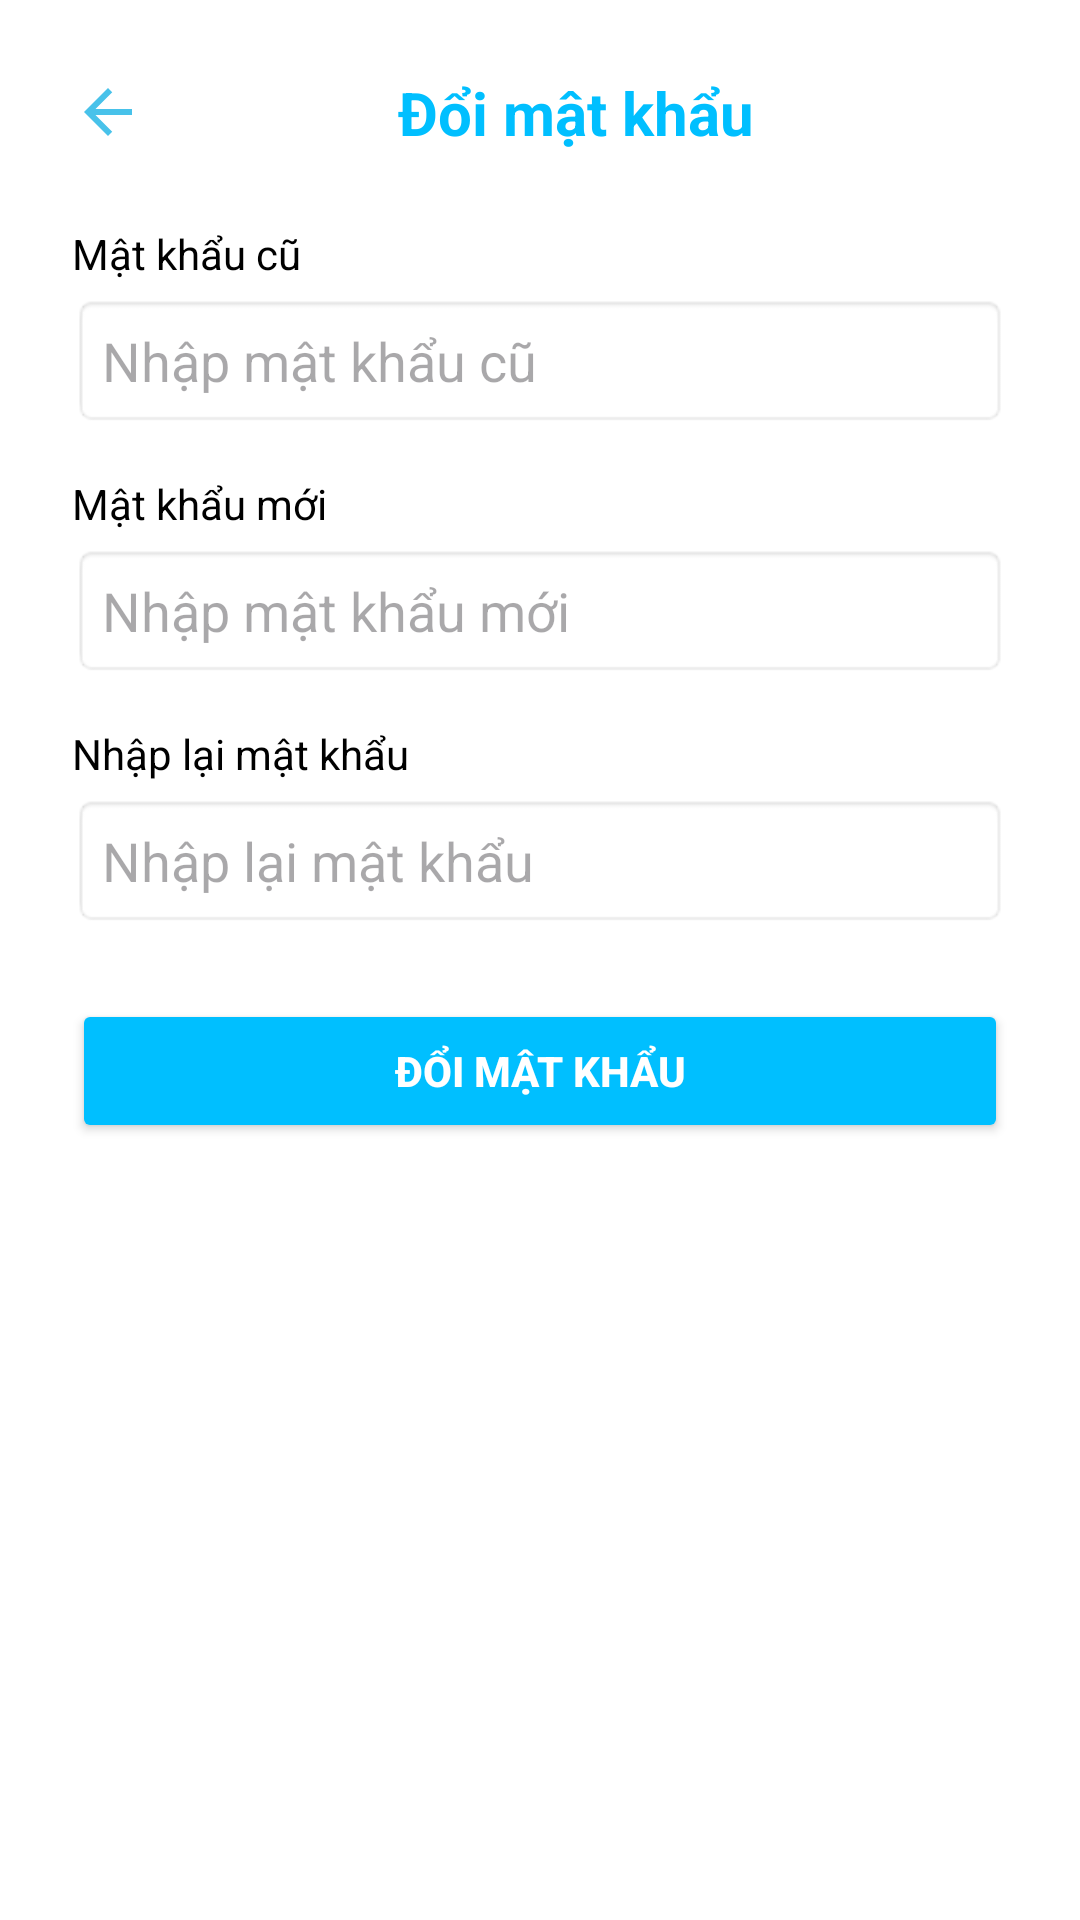

Icon bounding boxes for this 1080×1920 phone screenshot, format (left=x1, top=y1, right=x2, bottom=y2):
Quay lại: (left=84, top=88, right=132, bottom=136)
